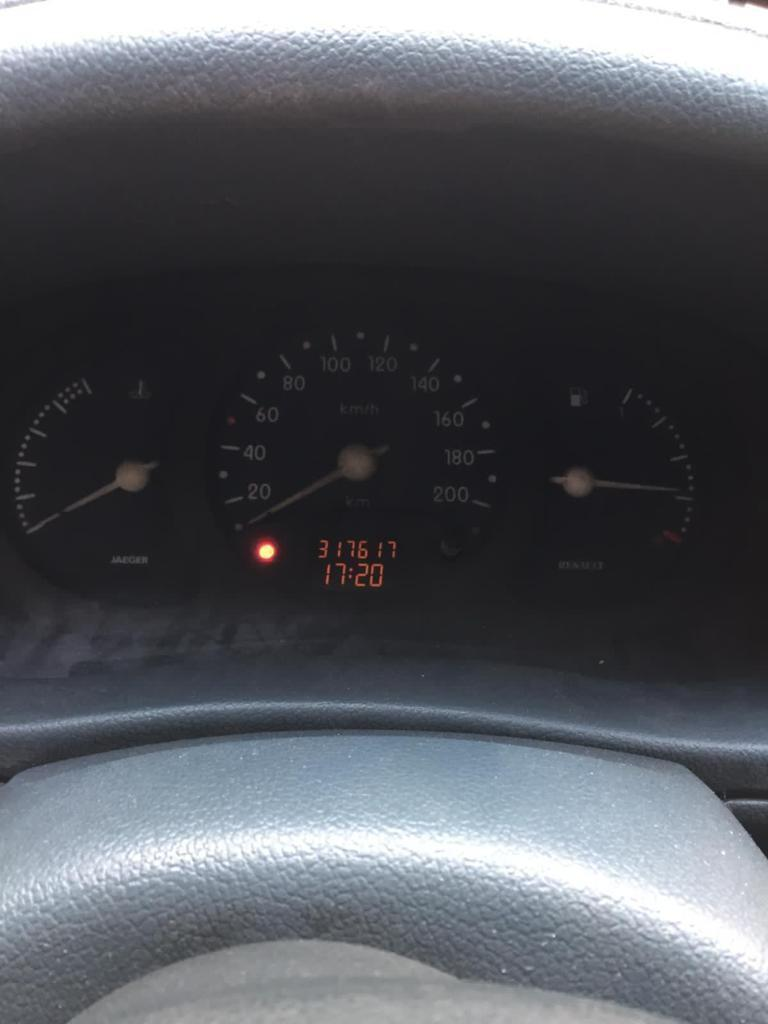0: (369, 563, 383, 587)
1: (324, 562, 332, 585), (376, 541, 383, 559), (336, 539, 342, 559)
2: (354, 563, 368, 587)
3: (318, 539, 328, 558)
6: (357, 539, 368, 559)
7: (334, 562, 346, 585), (387, 539, 397, 559), (346, 539, 355, 558)
X: (348, 565, 353, 580)
odometer: (297, 529, 413, 598)
